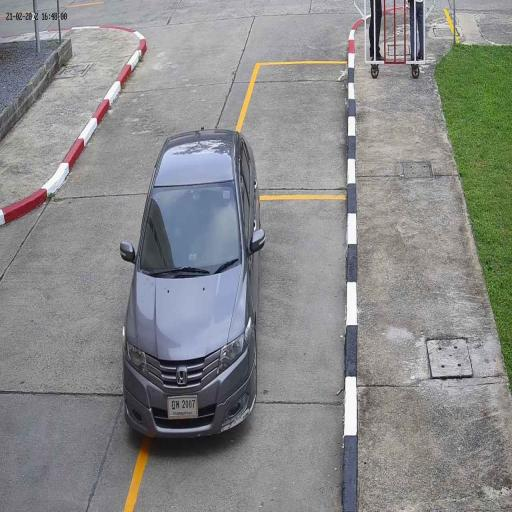car: (119, 124, 264, 443)
